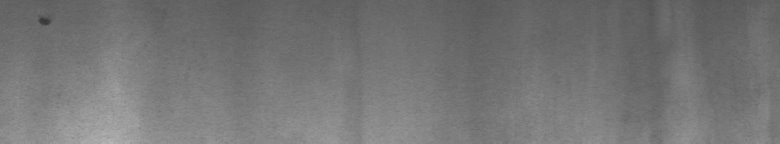fi: (36, 9, 53, 32)
